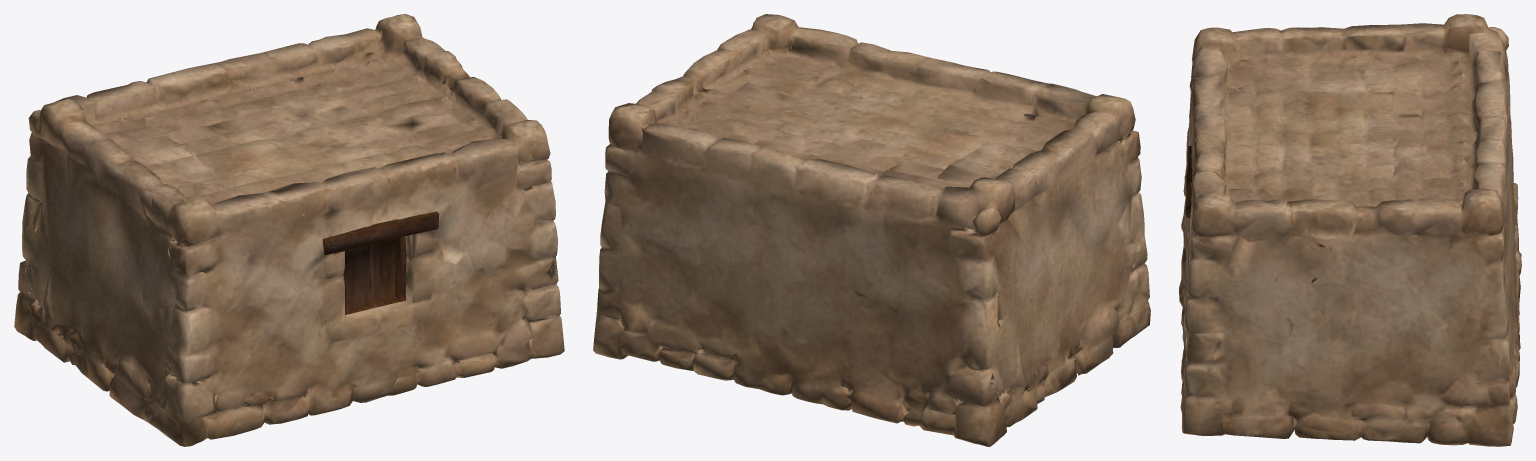
The model's file is limestone-house-annex.glb.
3 renders of one model, left to right at view 1: azimuth 30°, elevation 25°; view 2: azimuth 150°, elevation 25°; view 3: azimuth 270°, elevation 25°, orthographic.
Parts seen in each view (by area): view 1: geometry_0; view 2: geometry_0; view 3: geometry_0.
Boxes of the visible parts, <box> form: geometry_0: <box>14,14,564,446</box>; geometry_0: <box>593,14,1150,446</box>; geometry_0: <box>1179,14,1521,446</box>.
Bounding box in the file's own units: 4.5 × 2.65 × 3.32.
1 material, 1 textured.
